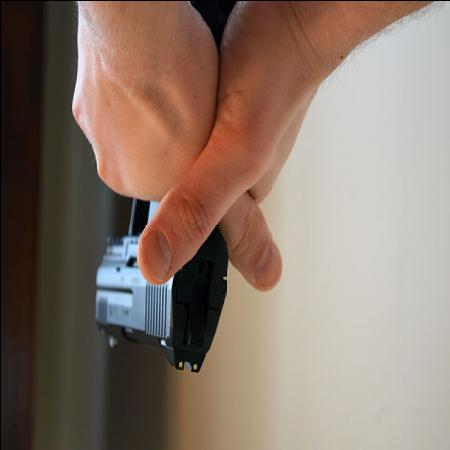Pistol: (90, 2, 236, 378)
